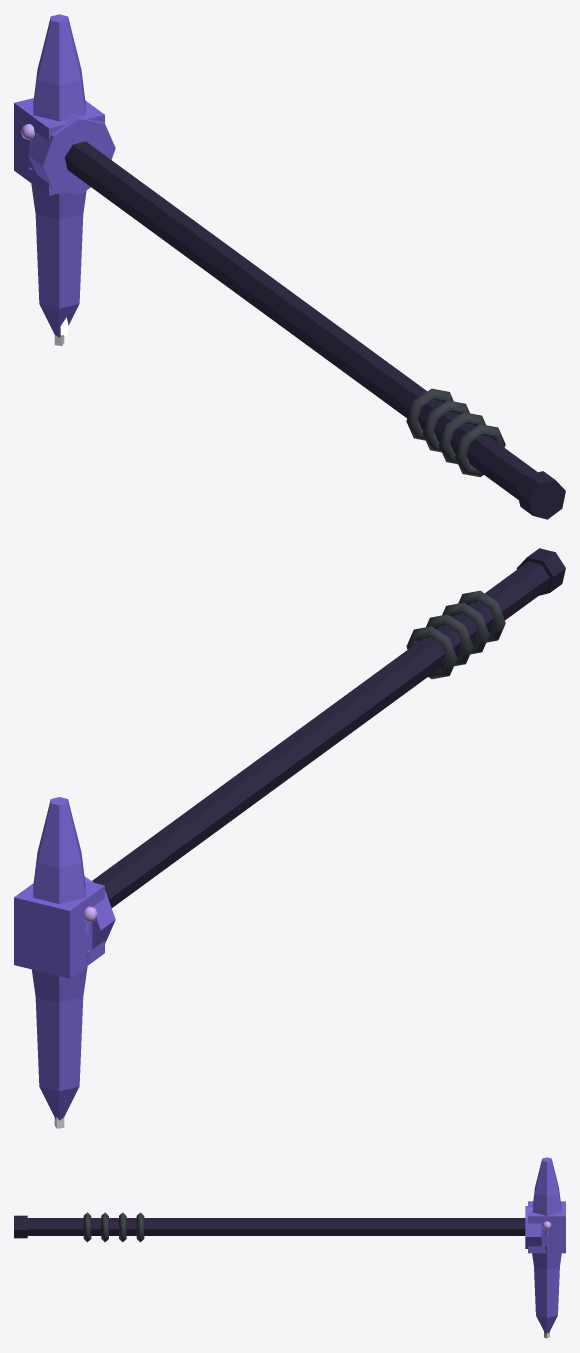
The model's file is Tool_Pickaxe_Starlight.fbx.
3 renders of one model, top to bottom at view 1: azimuth 30°, elevation 25°; view 2: azimuth 150°, elevation 25°; view 3: azimuth 270°, elevation 25°, orthographic. The views are drawn at different scales.
Parts seen in each view (by area): view 1: Tool_Pickaxe_Starlight; view 2: Tool_Pickaxe_Starlight; view 3: Tool_Pickaxe_Starlight.
Part boxes in pixels (x1=…): Tool_Pickaxe_Starlight: x1=14, y1=14, x2=565, y2=519; Tool_Pickaxe_Starlight: x1=14, y1=548, x2=565, y2=1128; Tool_Pickaxe_Starlight: x1=14, y1=1157, x2=565, y2=1338.
Size of the model in its own units: 0.0341 by 0.1442 by 0.406.
